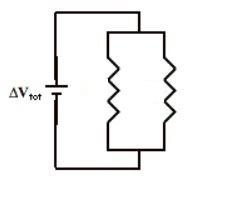resistor: (148, 41, 192, 134), (91, 49, 129, 129)
